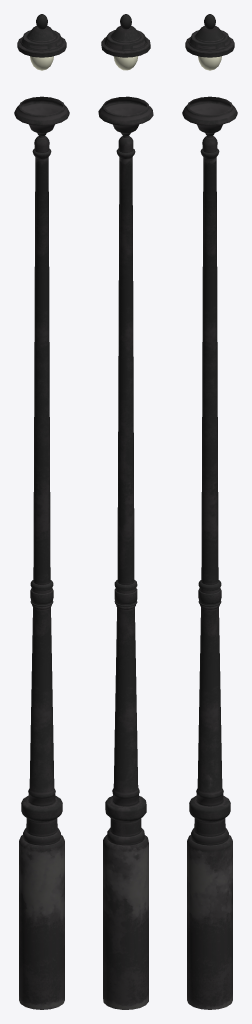
The model's file is poste.obj.
3 renders of one model, left to right at view 1: azimuth 90°, elevation 25°; view 2: azimuth 150°, elevation 25°; view 3: azimuth 270°, elevation 25°, orthographic.
Visible parts, largest first — view 1: defaultMaterial, defaultMaterial.001, defaultMaterial.003; view 2: defaultMaterial, defaultMaterial.001, defaultMaterial.003; view 3: defaultMaterial, defaultMaterial.001, defaultMaterial.003.
Boxes of the visible parts, x1,y1,x2,y2 form: defaultMaterial: [14, 96, 69, 1009]; defaultMaterial.001: [17, 14, 66, 57]; defaultMaterial.003: [30, 56, 53, 70]; defaultMaterial: [98, 96, 153, 1009]; defaultMaterial.001: [101, 14, 150, 57]; defaultMaterial.003: [114, 56, 138, 70]; defaultMaterial: [182, 96, 237, 1009]; defaultMaterial.001: [185, 14, 234, 57]; defaultMaterial.003: [198, 56, 221, 70].
Bounding box in the file's own units: 47.52 × 930 × 47.52.
1 material, 1 textured.
